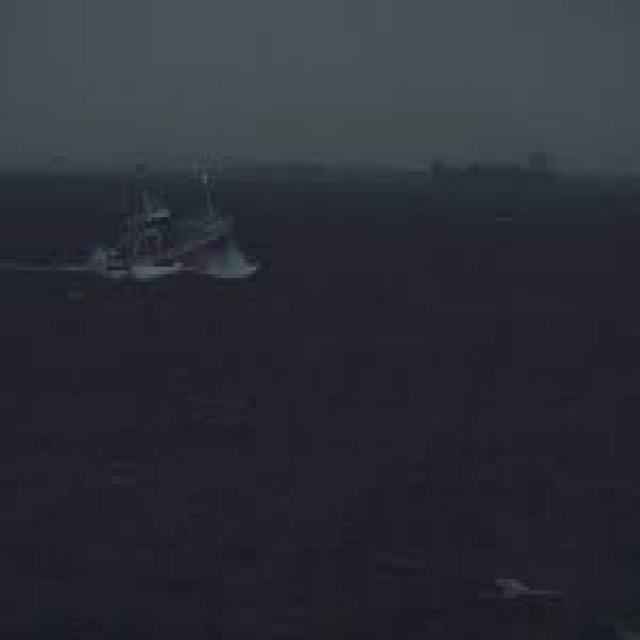navalvessels: (74, 151, 257, 302)
